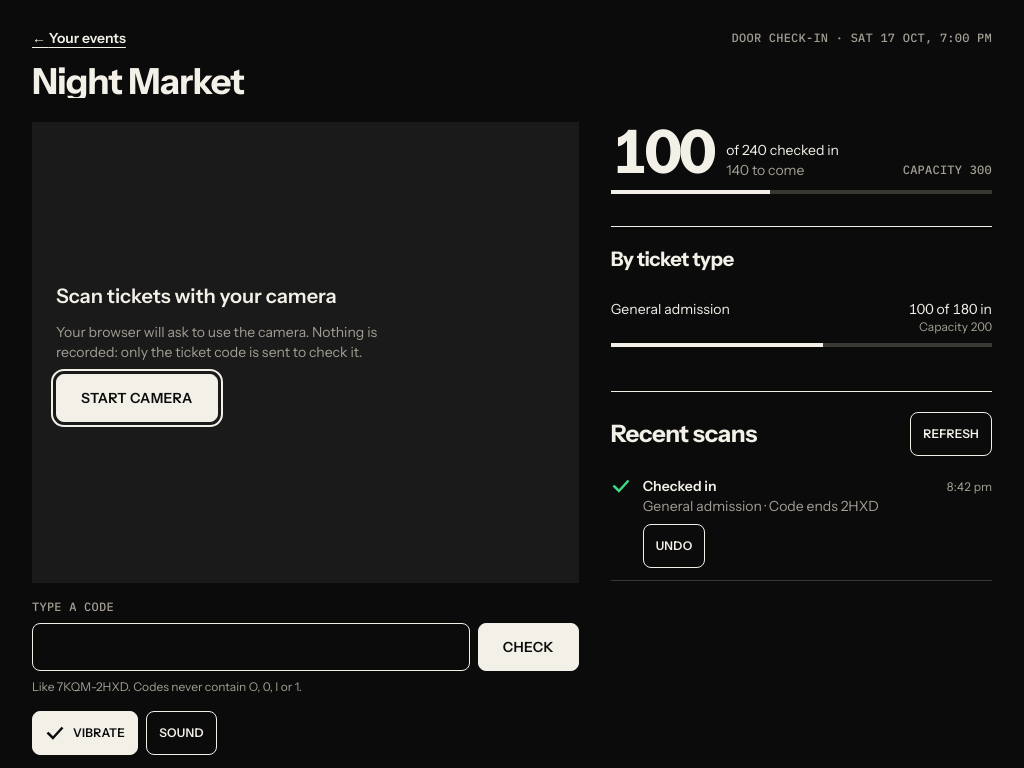
it: camera problems › NotAllowedError: Camera access is blocked, focused and announced
Click the button "Start camera" at (137, 398), box x1=56 y1=374 x2=218 y2=422
Wait 40 ms
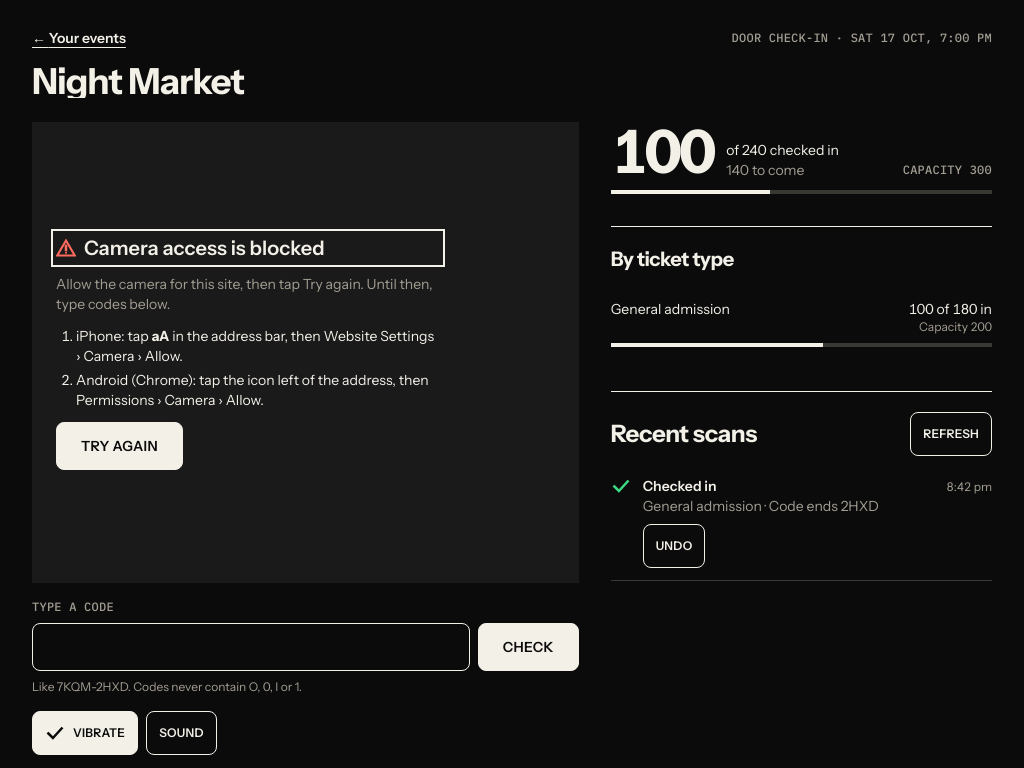
Expected: the field labelled "Type a code" is enabled, x1=32 y1=623 x2=470 y2=671
Expected: the button "Try again" is shown, x1=56 y1=422 x2=183 y2=470
